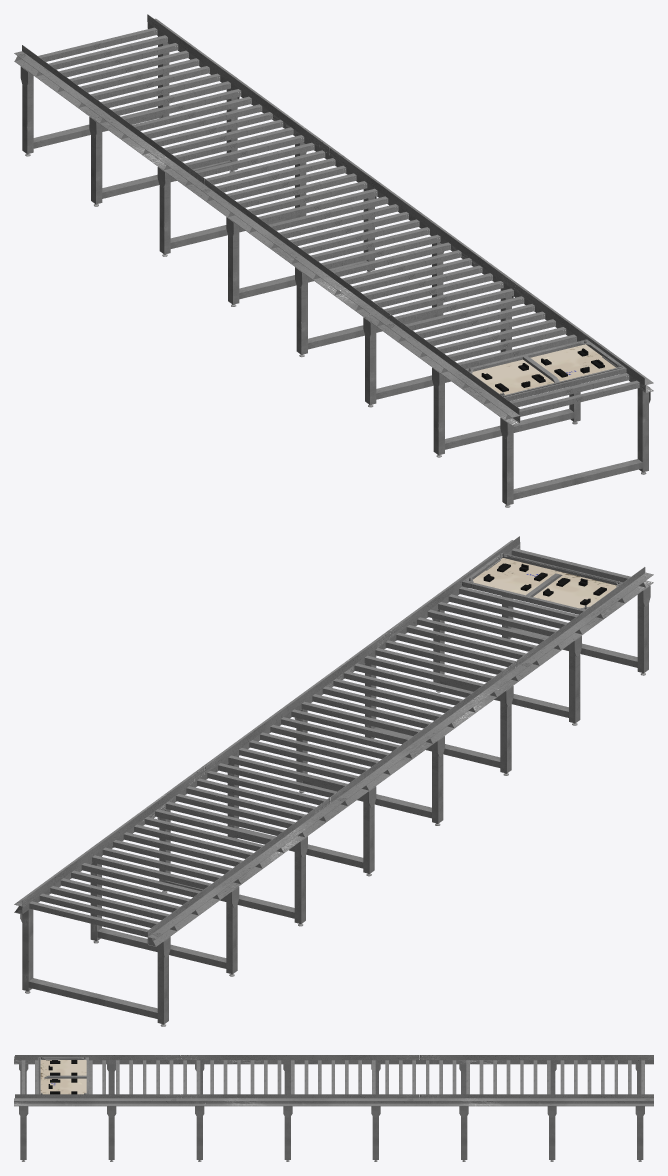
The model's file is liushui6.FBX.
The picture shows the model from 3 angles, top to bottom: view 1: azimuth 30°, elevation 25°; view 2: azimuth 150°, elevation 25°; view 3: azimuth 270°, elevation 25°; orthographic projection. The views are drawn at different scales.
Parts seen in each view (by area): view 1: YF_Model_liushui6; view 2: YF_Model_liushui6; view 3: YF_Model_liushui6.
Part boxes in pixels (left/top/right/bottom): YF_Model_liushui6: left=14, top=14, right=653, bottom=507; YF_Model_liushui6: left=14, top=536, right=653, bottom=1026; YF_Model_liushui6: left=14, top=1055, right=653, bottom=1161.
Size of the model in its own units: 99.54 by 67.41 by 600.
